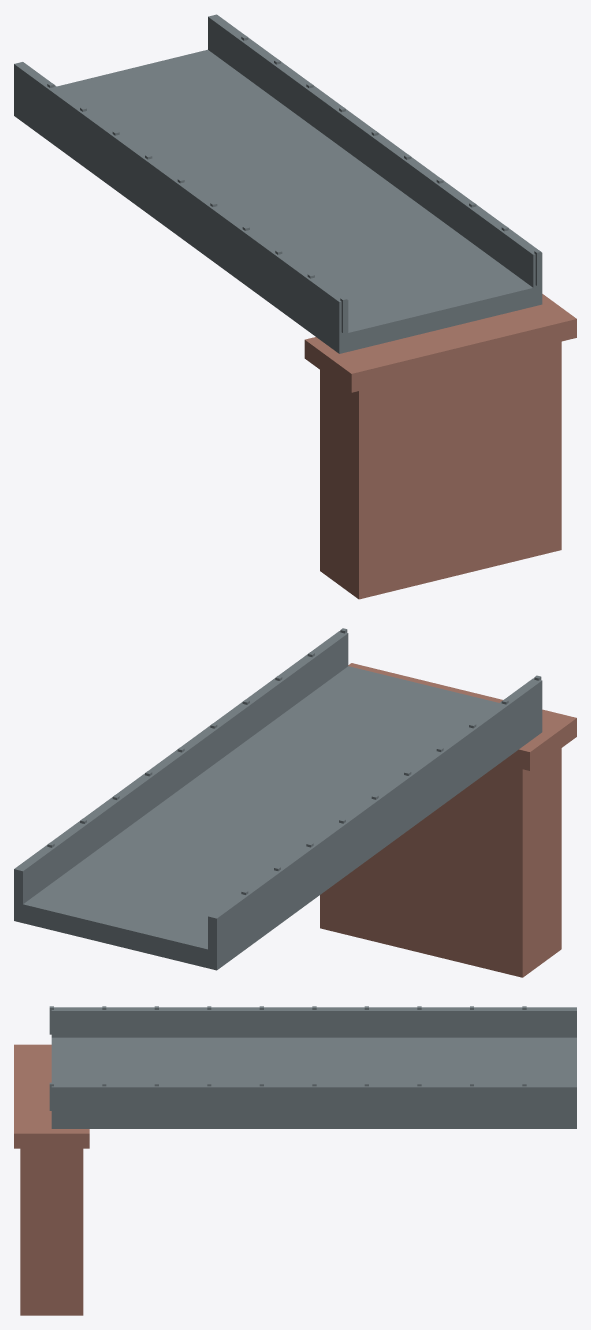
The model's file is viaduct.glb.
The picture shows the model from 3 angles, top to bottom: view 1: azimuth 30°, elevation 25°; view 2: azimuth 150°, elevation 25°; view 3: azimuth 270°, elevation 25°; orthographic projection. The views are drawn at different scales.
Parts seen in each view (by area): view 1: viaduct; view 2: viaduct; view 3: viaduct.
Boxes of the visible parts, x1,y1,x2,y2 form: viaduct: (14, 14, 576, 599); viaduct: (14, 628, 576, 977); viaduct: (14, 1006, 576, 1315).
Bounding box in the file's own units: 10 × 12.1 × 26.8.
